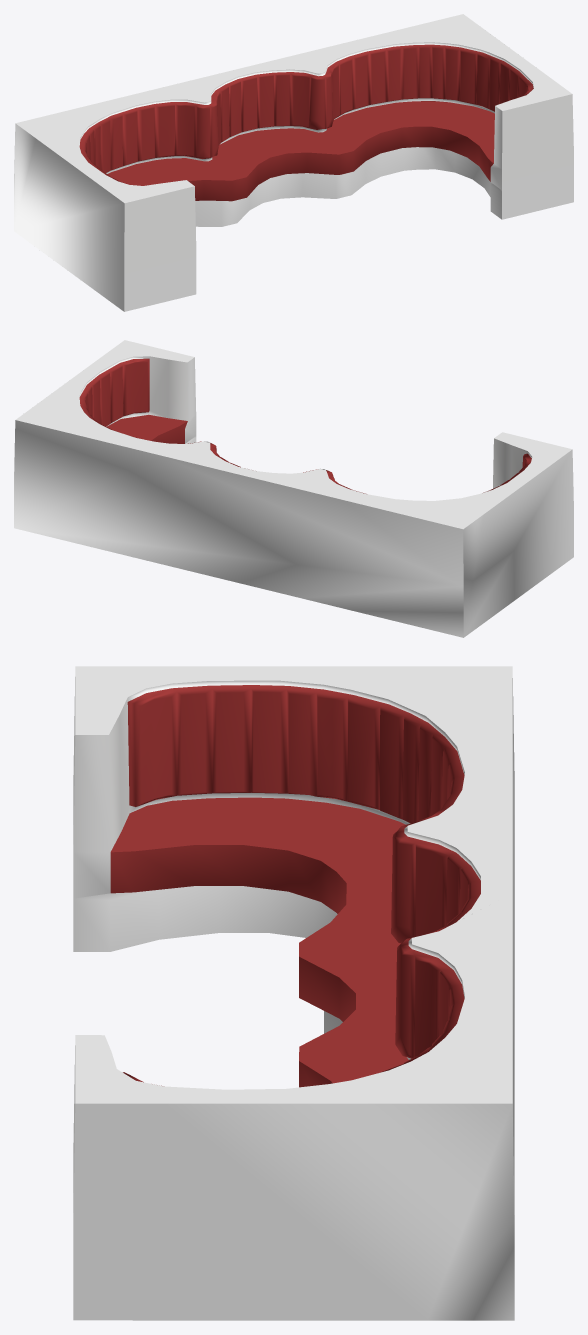
3 renders of one model, top to bottom at view 1: azimuth 30°, elevation 25°; view 2: azimuth 150°, elevation 25°; view 3: azimuth 270°, elevation 25°, orthographic. The views are drawn at different scales.
Parts seen in each view (by area): view 1: BarCouch.001; view 2: BarCouch.001; view 3: BarCouch.001.
Part boxes in pixels (x1=…): BarCouch.001: x1=14, y1=14, x2=573, y2=311; BarCouch.001: x1=14, y1=340, x2=573, y2=637; BarCouch.001: x1=73, y1=666, x2=514, y2=1320.
Size of what is drawn, in the model's own units: 4.75 by 1.09 by 2.02.
Materials: 1 (1 with a texture image).
